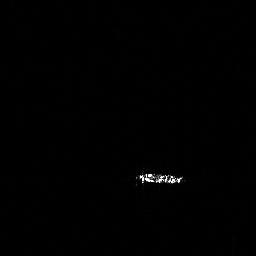ship: (133, 168, 187, 189)
